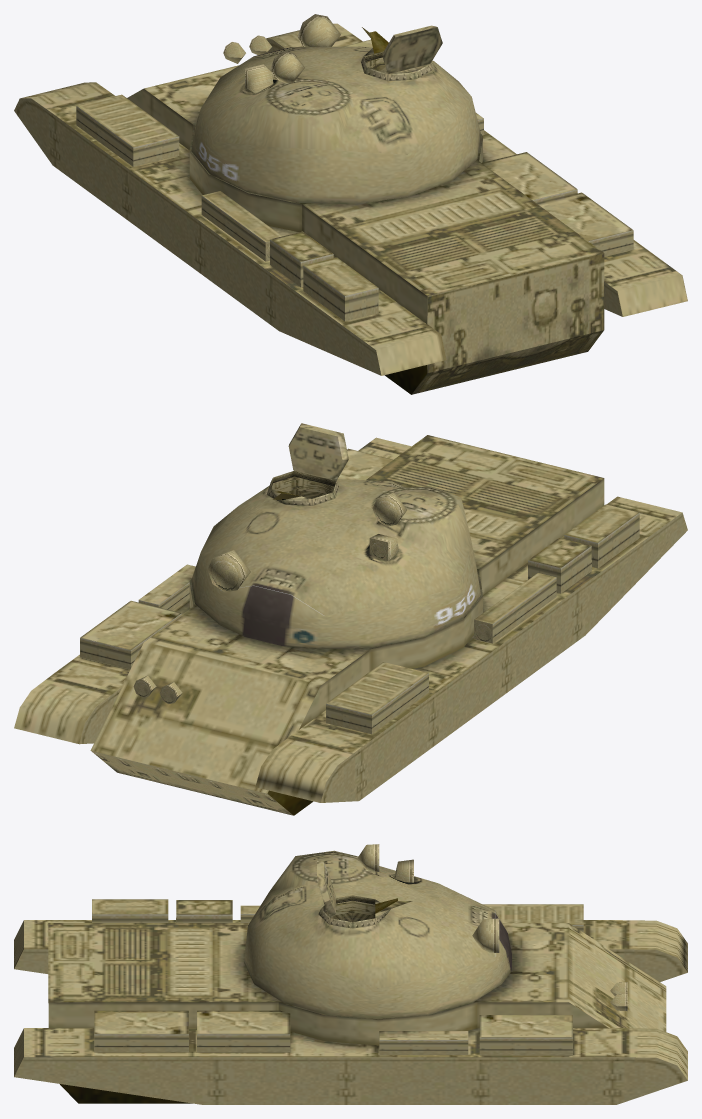
File: TANKBODY.glb
3 renders of one model, top to bottom at view 1: azimuth 30°, elevation 25°; view 2: azimuth 150°, elevation 25°; view 3: azimuth 270°, elevation 25°, orthographic. The views are drawn at different scales.
Visible parts, largest first — view 1: HULL, TURRET, GUNMOUNT, SEARCHLIGHT, SEARCHLIGHT04, COMMANDERSIGHT; view 2: HULL, TURRET, GUNMOUNT, SEARCHLIGHT, SEARCHLIGHT04, COMMANDERSIGHT; view 3: HULL, TURRET, GUNMOUNT, SEARCHLIGHT, SEARCHLIGHT04.
Boxes of the visible parts, left/top/right/bottom form: HULL: left=14, top=23, right=687, bottom=394; TURRET: left=191, top=46, right=480, bottom=204; GUNMOUNT: left=360, top=25, right=442, bottom=81; SEARCHLIGHT: left=297, top=14, right=340, bottom=46; SEARCHLIGHT04: left=270, top=51, right=304, bottom=83; COMMANDERSIGHT: left=245, top=64, right=273, bottom=93; HULL: left=14, top=435, right=687, bottom=815; TURRET: left=191, top=476, right=480, bottom=649; GUNMOUNT: left=267, top=423, right=348, bottom=505; SEARCHLIGHT: left=207, top=550, right=250, bottom=592; SEARCHLIGHT04: left=372, top=492, right=406, bottom=526; COMMANDERSIGHT: left=369, top=534, right=398, bottom=560; HULL: left=14, top=899, right=687, bottom=1104; TURRET: left=244, top=850, right=511, bottom=1019; GUNMOUNT: left=317, top=860, right=412, bottom=928; SEARCHLIGHT: left=472, top=918, right=499, bottom=952; SEARCHLIGHT04: left=358, top=844, right=379, bottom=871.
Bounding box in the file's own units: 3.29 × 2.41 × 6.84.
5 materials, 5 textured.
